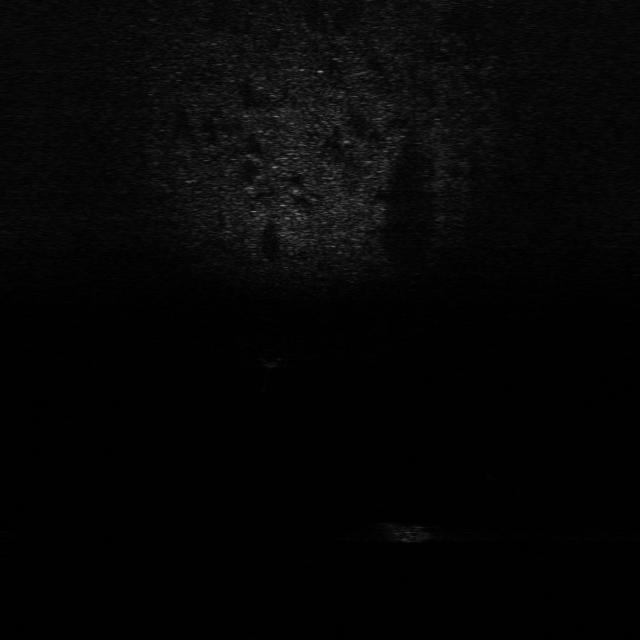ball: (256, 349, 282, 367)
metal bucket: (369, 516, 433, 546)
